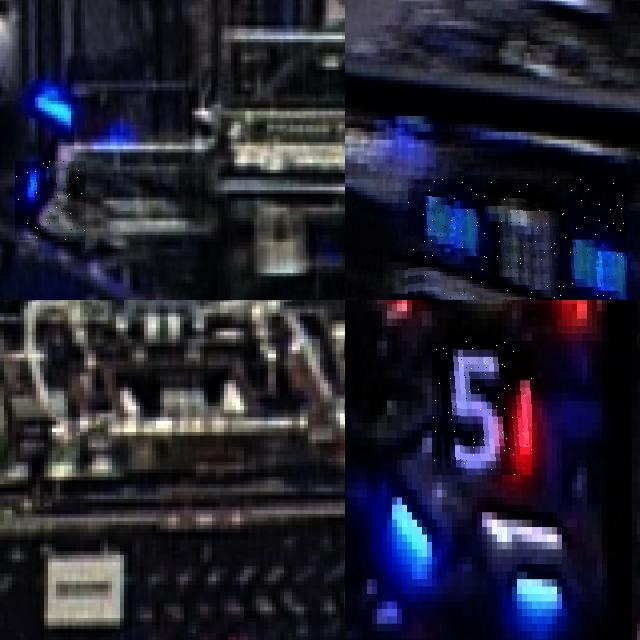B1: (407, 179, 627, 300), (462, 482, 597, 609)
B2: (16, 161, 88, 240)
R5: (432, 341, 532, 475)
